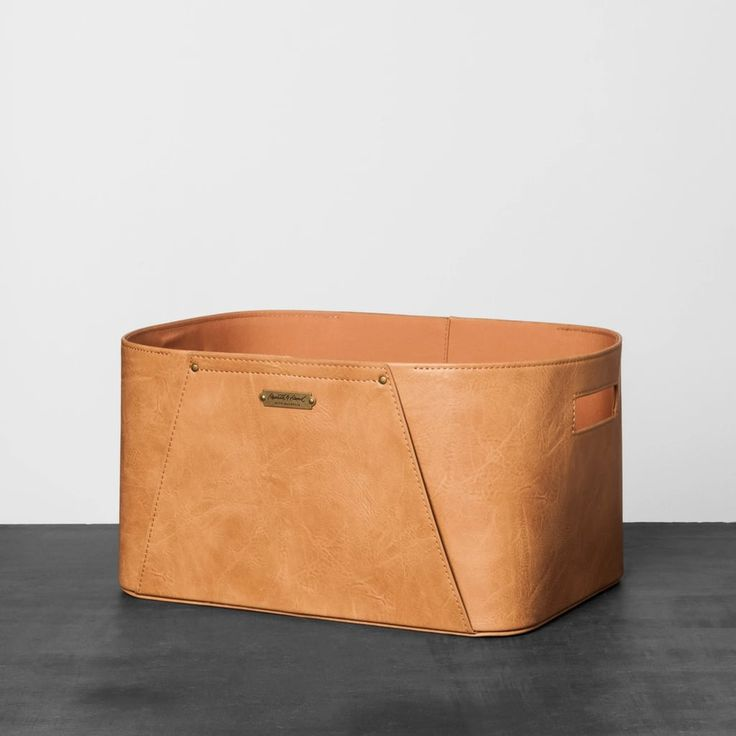cuero: (117, 310, 627, 638)
